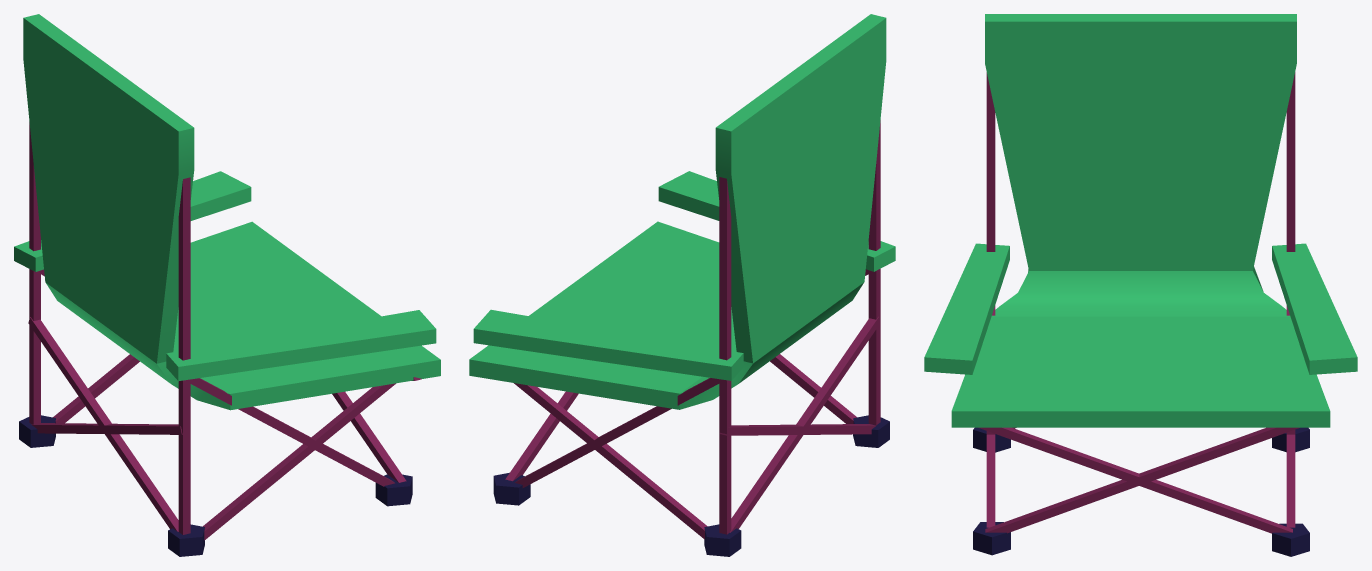
The model's file is chair02_export.fbx.
3 renders of one model, left to right at view 1: azimuth 30°, elevation 25°; view 2: azimuth 150°, elevation 25°; view 3: azimuth 270°, elevation 25°, orthographic.
Parts seen in each view (by area): view 1: pCube3, pCube4, pCube5, pCube15, pCube10, pCube7, pCube6, pCube8, pCube14, pCube12, pCube11, pCylinder2 (+2 smaller); view 2: pCube3, pCube7, pCube6, pCube14, pCube11, pCube5, pCube4, pCube9, pCube15, pCube13, pCube10, pCylinder3 (+2 smaller); view 3: pCube3, pCube7, pCube4, pCube12, pCube13, pCube6, pCube5, pCylinder4, pCube9, pCube8, pCylinder1, pCylinder3 (+1 smaller).
Part boxes in pixels (x1=…): pCube3: x1=23, y1=14, x2=440, y2=410; pCube4: x1=166, y1=310, x2=436, y2=381; pCube5: x1=178, y1=177, x2=190, y2=534; pCube15: x1=28, y1=317, x2=178, y2=531; pCube10: x1=203, y1=383, x2=395, y2=540; pCube7: x1=14, y1=171, x2=251, y2=271; pCube6: x1=29, y1=122, x2=40, y2=424; pCube8: x1=190, y1=378, x2=394, y2=486; pCube14: x1=31, y1=423, x2=182, y2=434; pCube12: x1=332, y1=391, x2=406, y2=482; pCube11: x1=53, y1=354, x2=139, y2=423; pCylinder2: x1=168, y1=524, x2=204, y2=556; pCube3: x1=469, y1=14, x2=886, y2=409; pCube7: x1=473, y1=309, x2=743, y2=380; pCube6: x1=719, y1=177, x2=731, y2=534; pCube14: x1=730, y1=316, x2=880, y2=532; pCube11: x1=514, y1=383, x2=707, y2=539; pCube5: x1=868, y1=120, x2=880, y2=425; pCube4: x1=658, y1=171, x2=895, y2=271; pCube9: x1=515, y1=378, x2=724, y2=487; pCube15: x1=720, y1=424, x2=876, y2=435; pCube13: x1=505, y1=391, x2=578, y2=481; pCube10: x1=770, y1=354, x2=856, y2=423; pCylinder3: x1=704, y1=524, x2=741, y2=556; pCube3: x1=951, y1=14, x2=1330, y2=427; pCube7: x1=1272, y1=243, x2=1357, y2=374; pCube4: x1=924, y1=243, x2=1009, y2=374; pCube12: x1=985, y1=427, x2=1299, y2=533; pCube13: x1=978, y1=427, x2=1292, y2=533; pCube6: x1=1286, y1=72, x2=1295, y2=251; pCube5: x1=986, y1=72, x2=995, y2=251; pCylinder4: x1=1272, y1=523, x2=1309, y2=556; pCube9: x1=1286, y1=305, x2=1295, y2=527; pCube8: x1=986, y1=305, x2=995, y2=527; pCylinder1: x1=973, y1=522, x2=1010, y2=555; pCylinder3: x1=1272, y1=427, x2=1309, y2=452.
Size of the model in its own units: 1.22 by 1.98 by 1.82.
